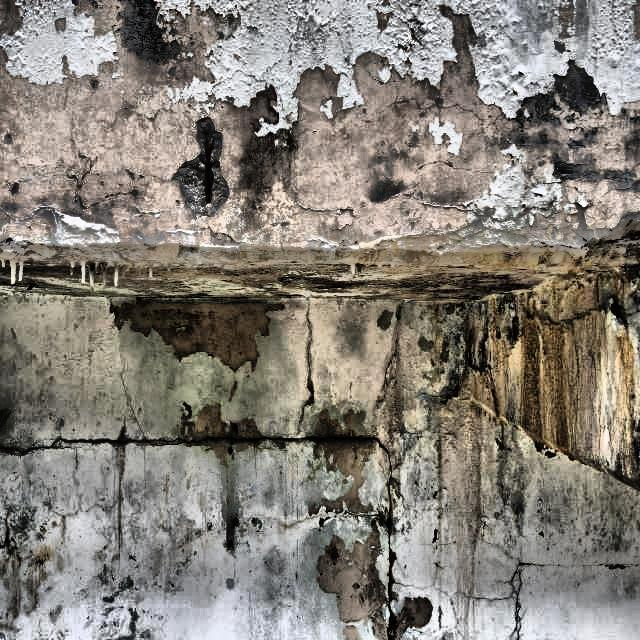D0w0: (205, 144, 215, 202)
